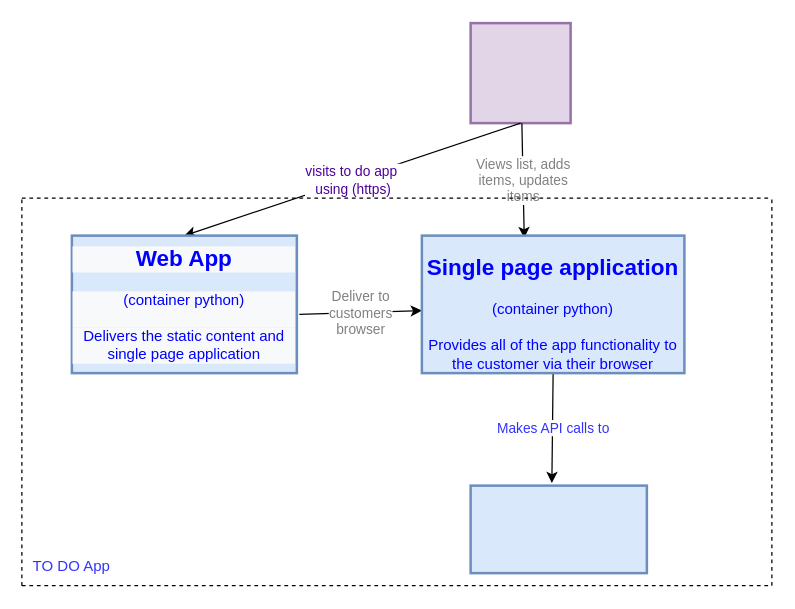
Some shapes in this 795 by 609 pixel diagram are drawn without their labels. The centre of each missing label's shape, as x and y in pixels:
App User: the point at 520,72
Trello stores to do list items: the point at 558,529
